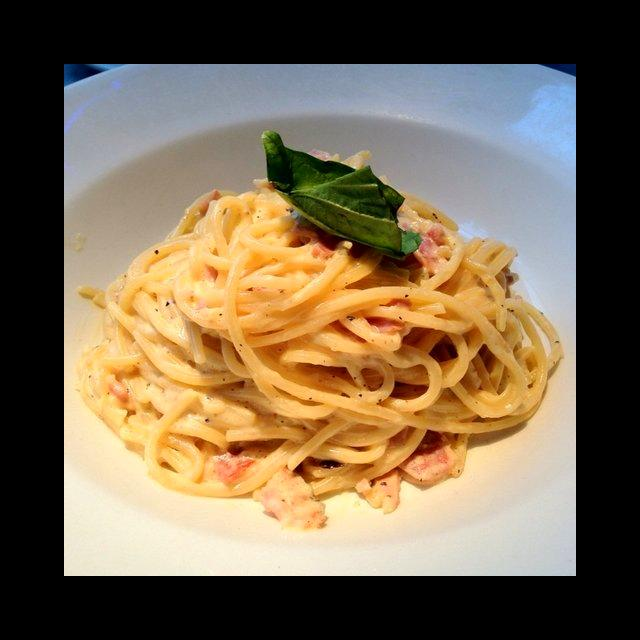noodles: (75, 130, 567, 533)
